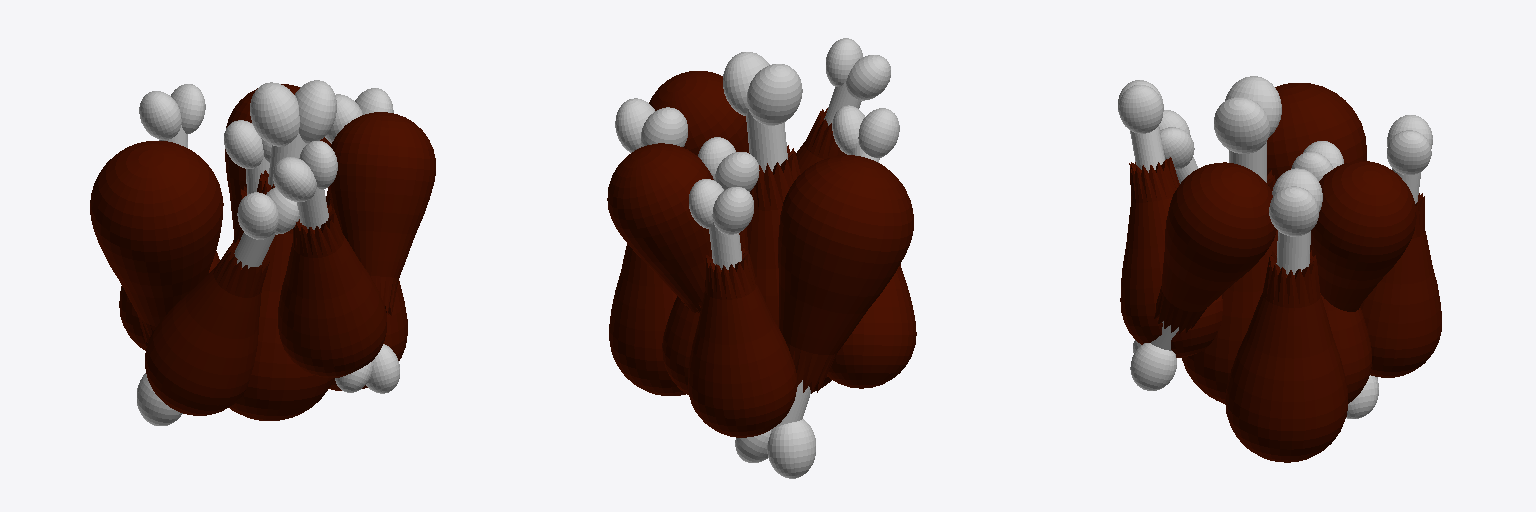
File: chicken-drumstick-bunch_cooked.obj
3 renders of one model, left to right at view 1: azimuth 30°, elevation 25°; view 2: azimuth 150°, elevation 25°; view 3: azimuth 270°, elevation 25°, orthographic.
Visible parts, largest first — view 1: Bucket; view 2: Bucket; view 3: Bucket.
Boxes of the visible parts, x1=… form: Bucket: x1=90, y1=80, x2=435, y2=425; Bucket: x1=607, y1=38, x2=916, y2=478; Bucket: x1=1118, y1=76, x2=1441, y2=462.
Bounding box in the file's own units: 0.46 × 0.5374 × 0.4397.